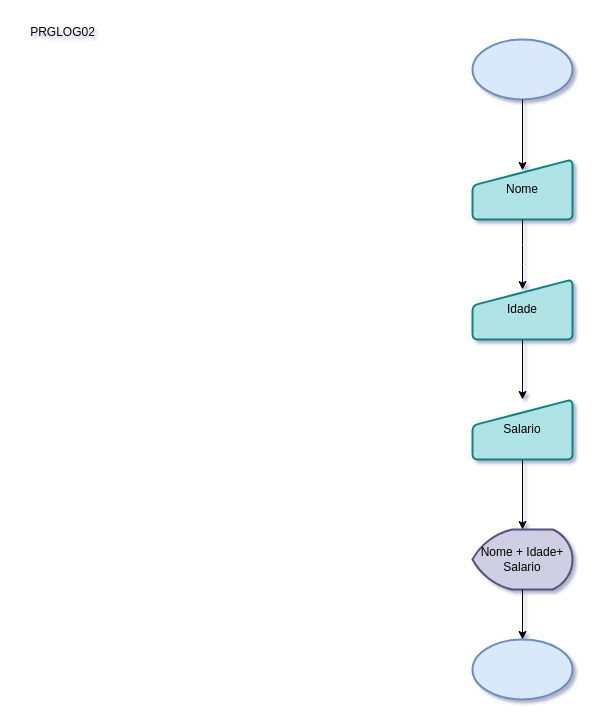
This 596x723 diagram has some shape labels left out. Each missing label, with the box of its shape:
FIM: (471, 638, 573, 700)
INÍCIO: (471, 38, 573, 100)
